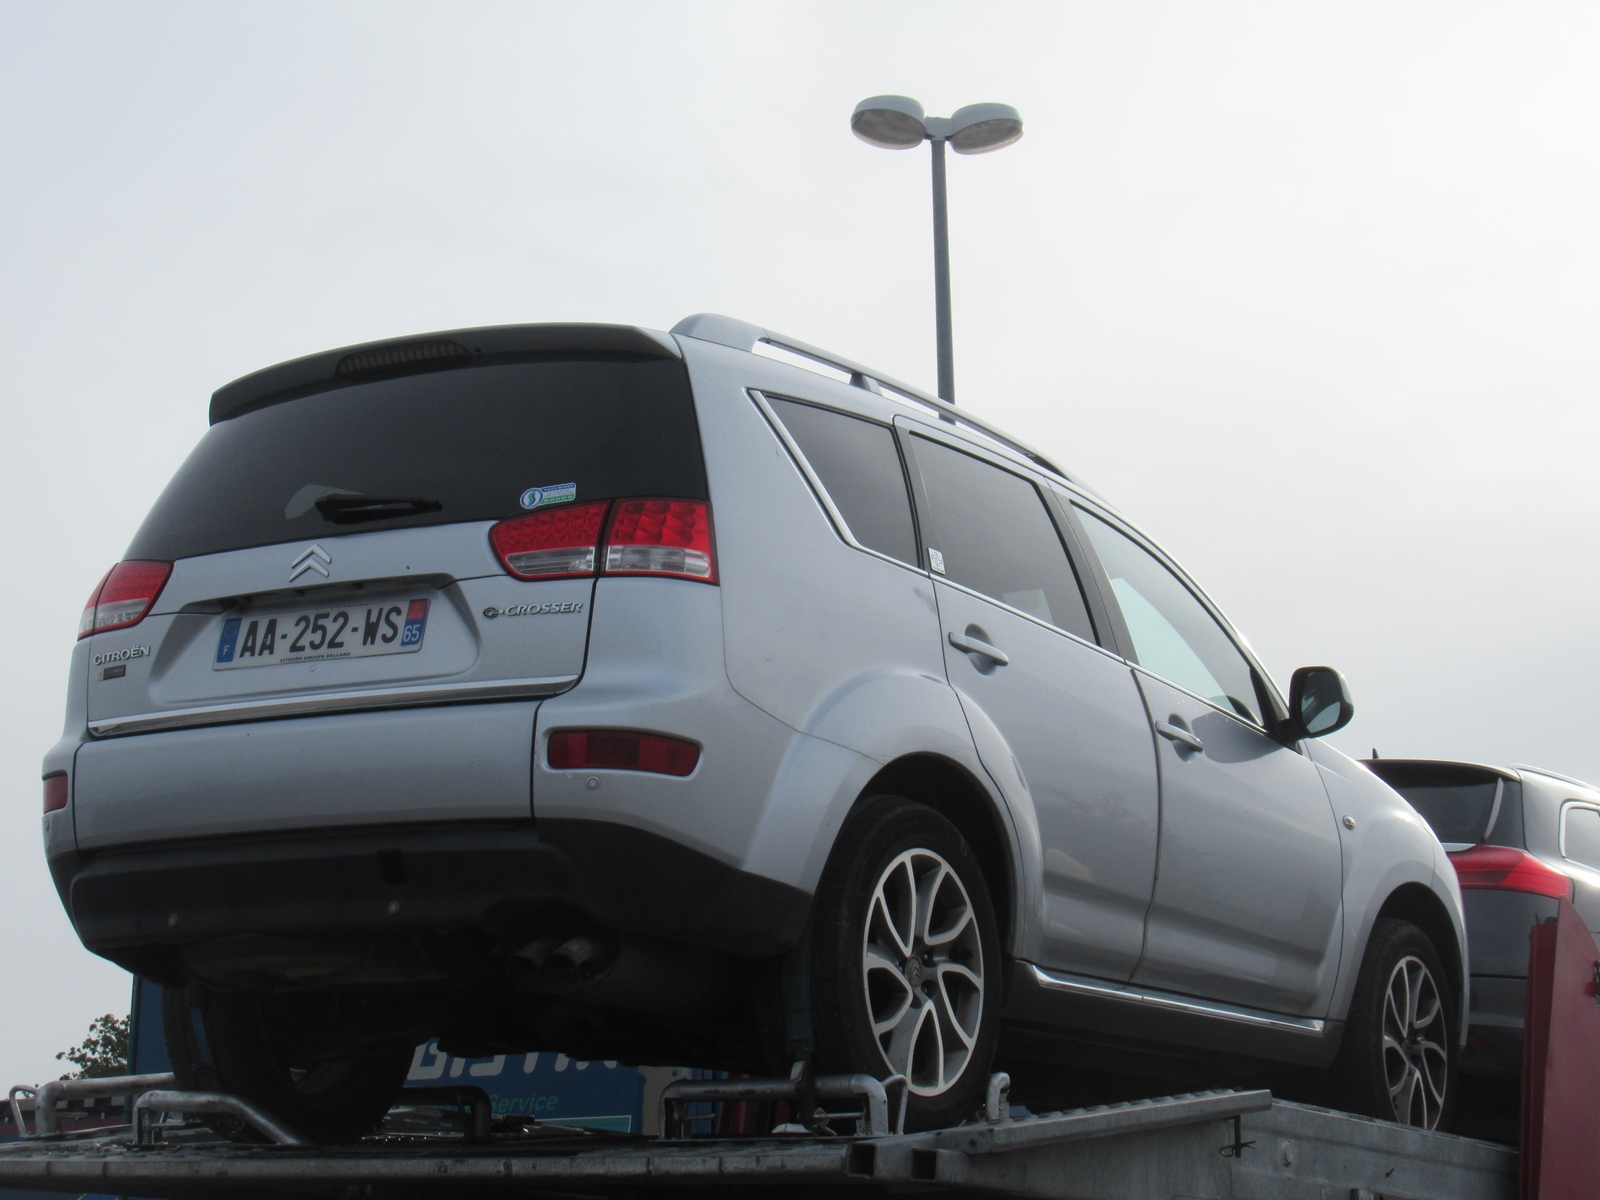licence plate: (208, 595, 430, 677)
